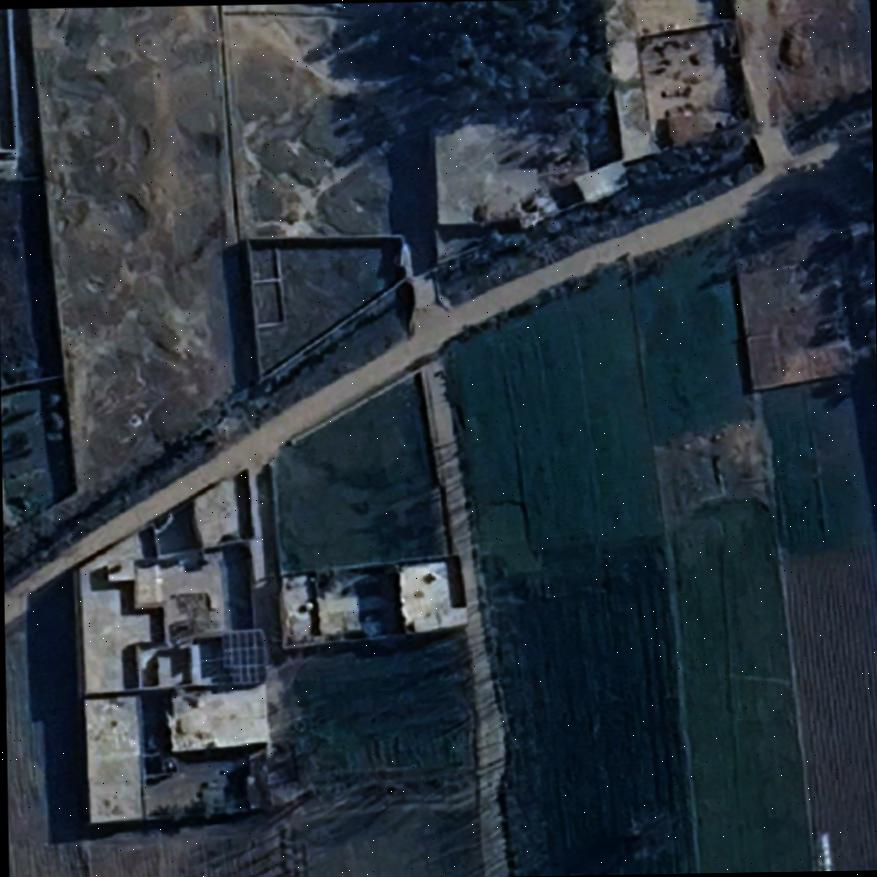Solarpanel: (218, 626, 268, 686)
